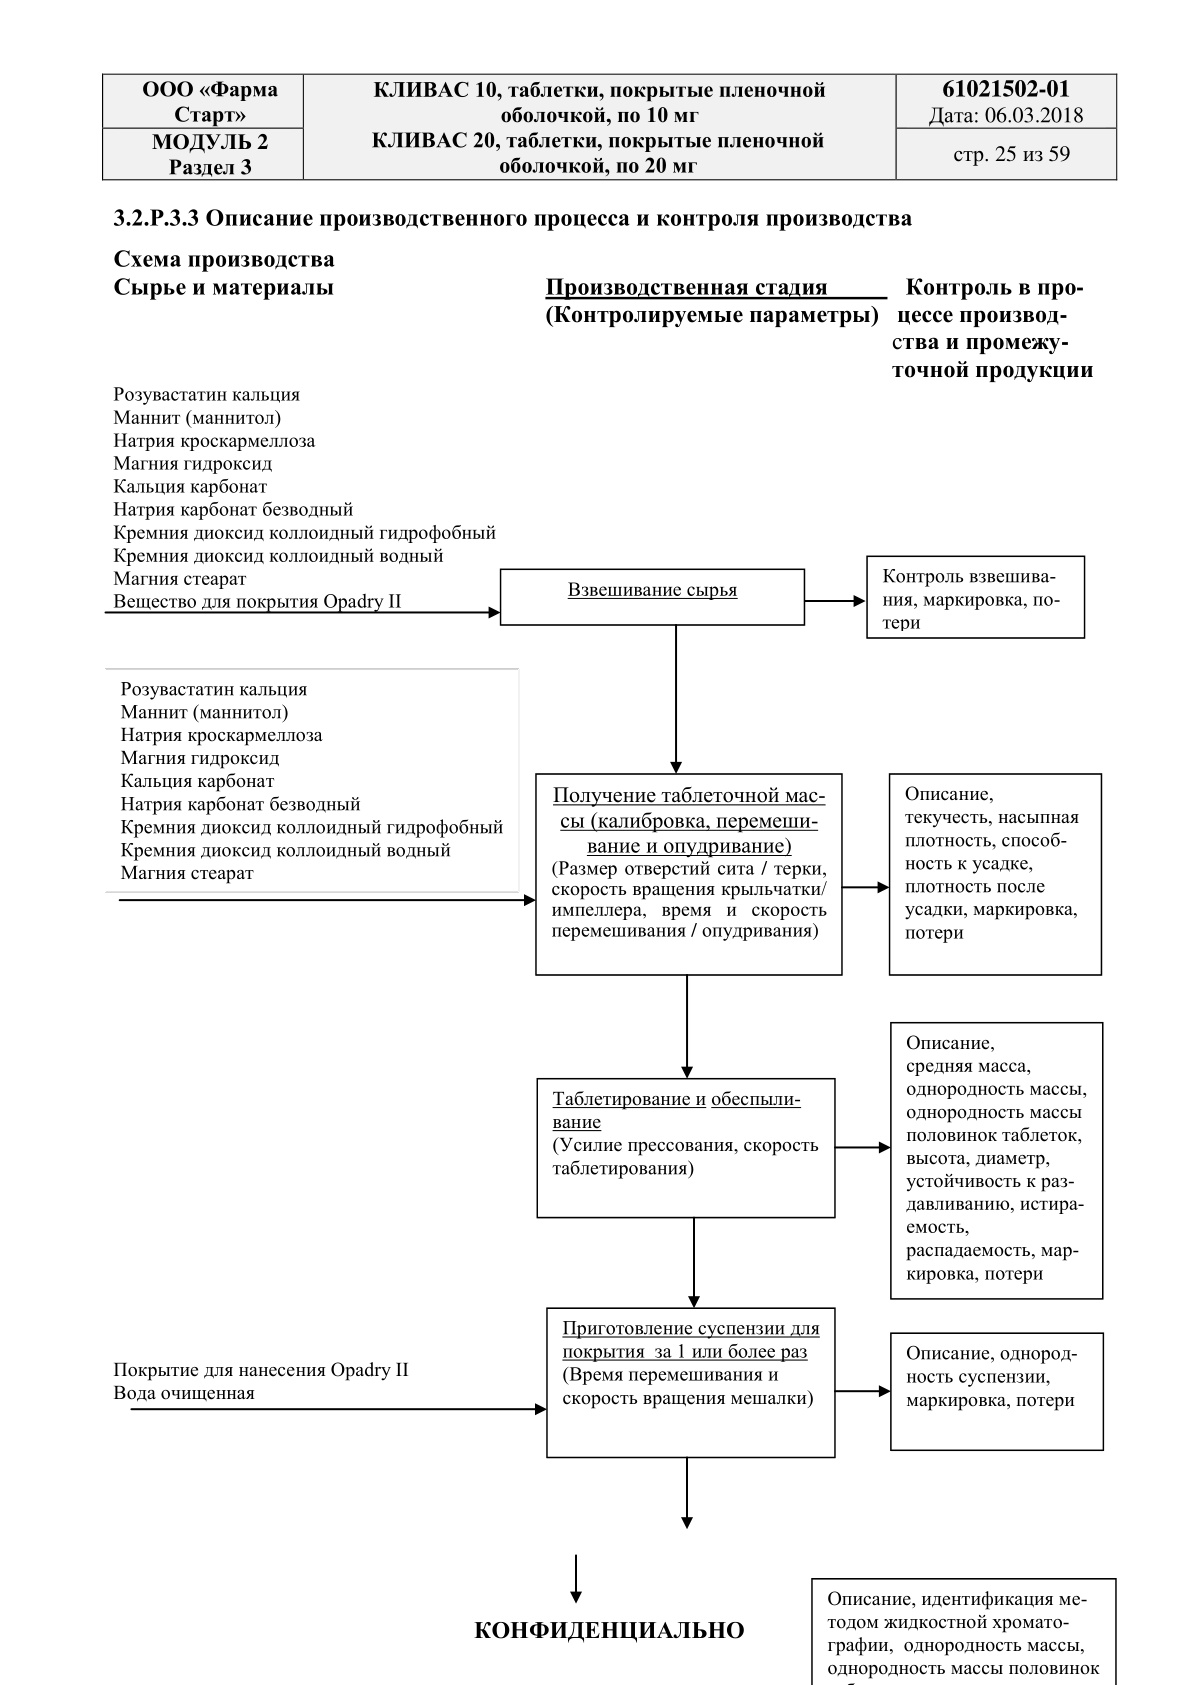merged_cells: (101, 73, 1119, 182)
